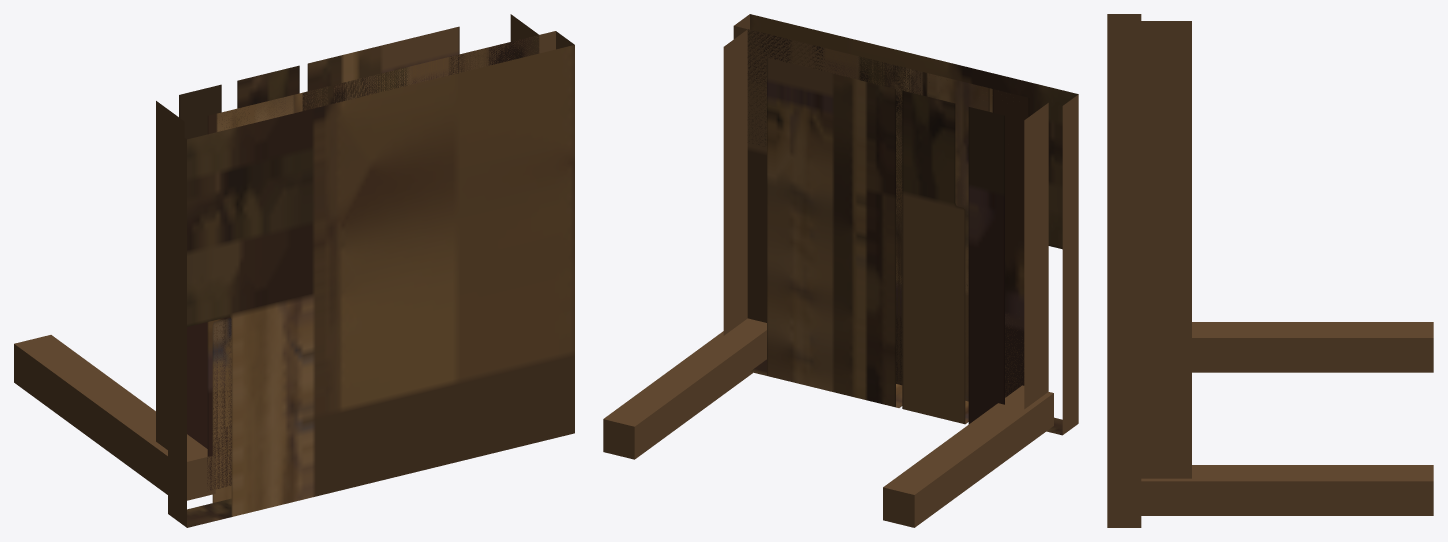
The model's file is section-3.obj.
3 views of the same model, side by side, from view 1: azimuth 30°, elevation 25°; view 2: azimuth 150°, elevation 25°; view 3: azimuth 270°, elevation 25° (orthographic). The views are drawn at different scales.
Bounding box in the file's own units: 0.94 × 0.9 × 0.77.
